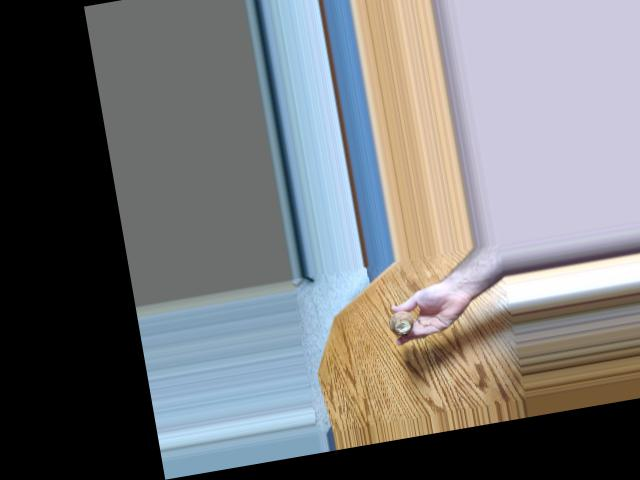sweet_potato: (386, 306, 412, 336)
